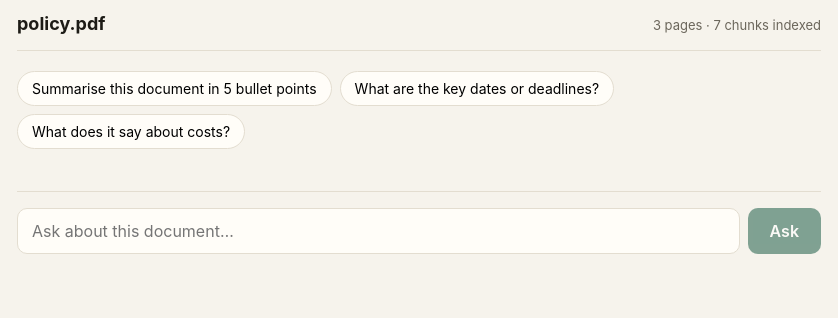
Scenario: ChatPanel › sends the question for the selected document and shows the cited answer
Type "What is the refund policy?" into the field named "Your question".
click(378, 231); type("What is the refund policy?")  # box [17,208,740,254]
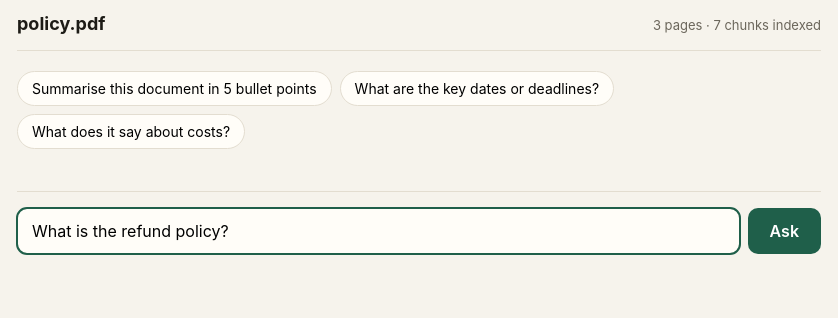
Click the button "Ask".
click(784, 231)  # box [748,208,821,254]
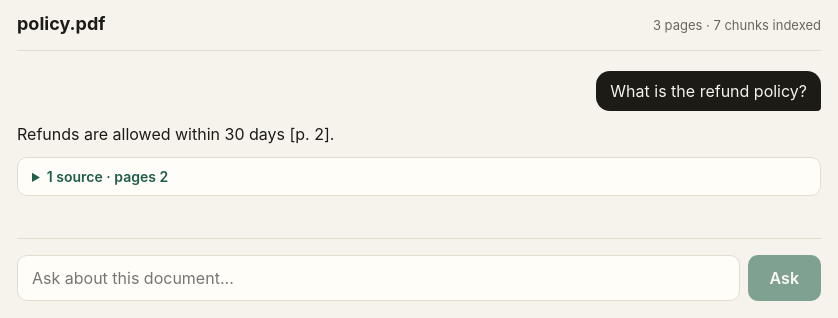
expect the text "Refunds are allowed within 30 days [p. 2]." is shown: met, box [17,124,334,144]
expect the heading "1 source · pages 2" is shown: met, box [47,168,168,185]
